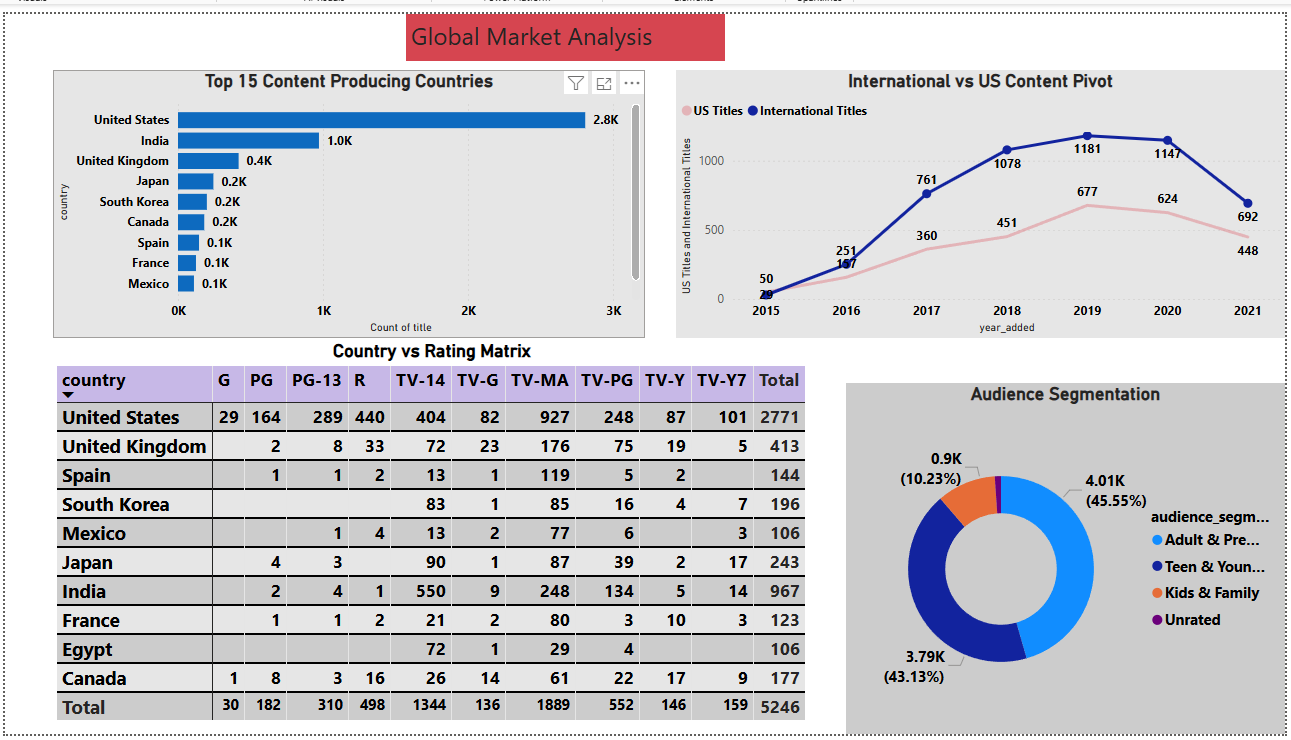

The page's visual inventory and layout, read from the dashboard file:
{"tool":"powerbi","page":{"name":"Global Analysis","canvas":[1280,720],"ordinal":2},"visuals":[{"type":"clusteredBarChart","title":"Top 15 Content Producing Countries","fields":{"Category":["netflix_cleaned.country"],"Y":["CountNonNull(netflix_cleaned.title)"]},"box":[47.9,55.9,566.7,270.4],"z":0},{"type":"donutChart","title":"Audience Segmentation","fields":{"Category":["netflix_cleaned.audience_segment"],"Y":["CountNonNull(netflix_cleaned.title)"]},"box":[840.9,369,438.8,351],"z":1},{"type":"lineChart","title":"International vs US Content Pivot","fields":{"Category":["netflix_cleaned.year_added"],"Y":["netflix_cleaned.US Titles","netflix_cleaned.International Titles"]},"box":[687.4,55.9,592.6,268.4],"z":2},{"type":"pivotTable","title":"Country vs Rating Matrix","fields":{"Columns":["netflix_cleaned.rating"],"Rows":["netflix_cleaned.country"],"Values":["CountNonNull(netflix_cleaned.title)"]},"box":[47.5,326,759.4,394],"z":3},{"type":"textbox","box":[401.1,0,319.3,46.9],"z":4}]}

Visuals, with their boxes in screenshot pixels (x1, y1, x2, y2), scaled from the page's 1280x720 canvas onto the 1291x740 screenshot:
"Top 15 Content Producing Countries" clusteredBarChart: (x1=48, y1=57, x2=620, y2=335)
"Audience Segmentation" donutChart: (x1=848, y1=379, x2=1290, y2=739)
"International vs US Content Pivot" lineChart: (x1=693, y1=57, x2=1290, y2=333)
"Country vs Rating Matrix" pivotTable: (x1=48, y1=335, x2=814, y2=739)
textbox: (x1=405, y1=0, x2=727, y2=48)
